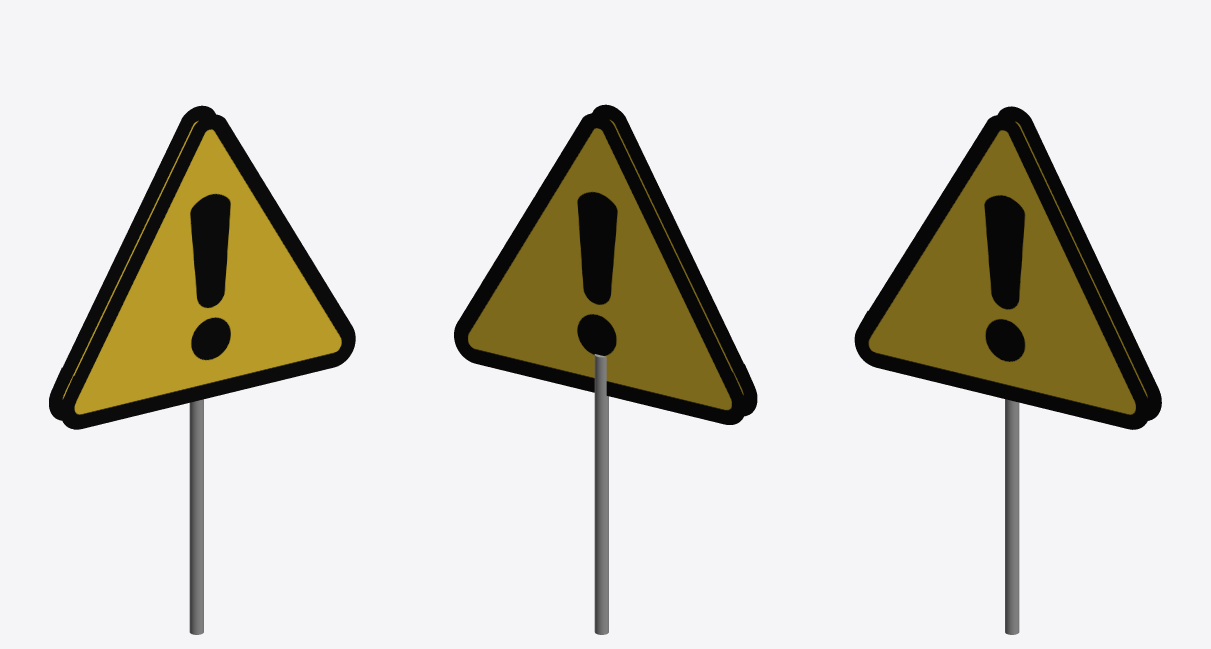
File: ATTENTION_SIGN_DANIELA.fbx
3 renders of one model, left to right at view 1: azimuth 30°, elevation 25°; view 2: azimuth 150°, elevation 25°; view 3: azimuth 330°, elevation 25°, orthographic.
Parts seen in each view (by area): view 1: ATTENTION_SIGN; view 2: ATTENTION_SIGN; view 3: ATTENTION_SIGN.
Boxes of the visible parts, x1,y1,x2,y2 form: ATTENTION_SIGN: [49, 105, 355, 634]; ATTENTION_SIGN: [454, 104, 757, 634]; ATTENTION_SIGN: [854, 106, 1161, 634].
Size of the model in its own units: 4.04 by 6.06 by 0.2719.
